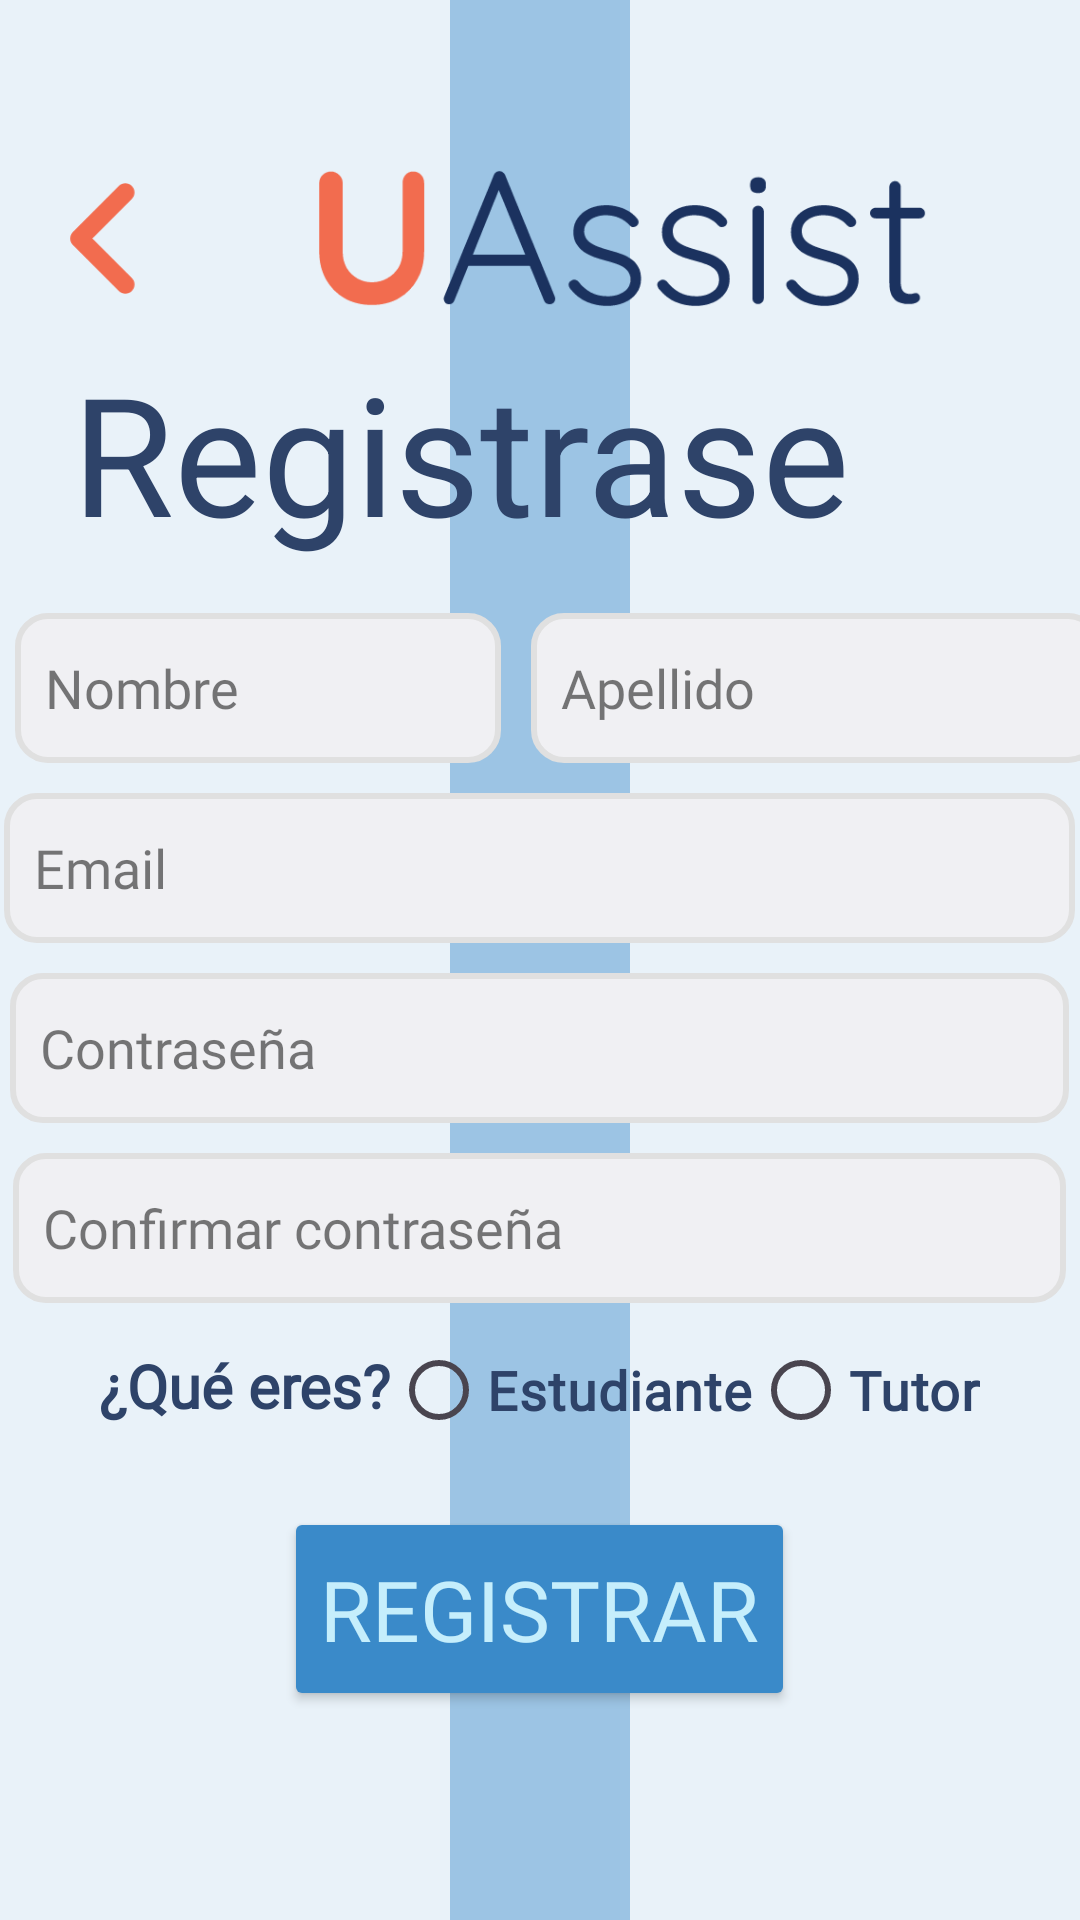

Icons on this 1080px×1920px Android screen, each with its box as (x1, y1, x2, y2):
boton de volver: (70, 183, 135, 294)
